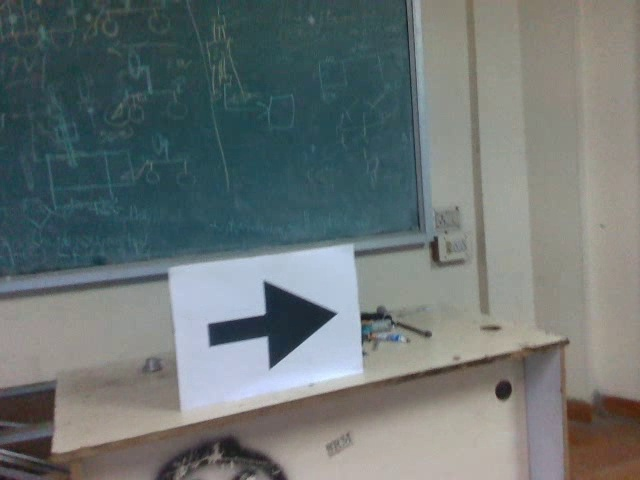Right: (195, 273, 339, 370)
